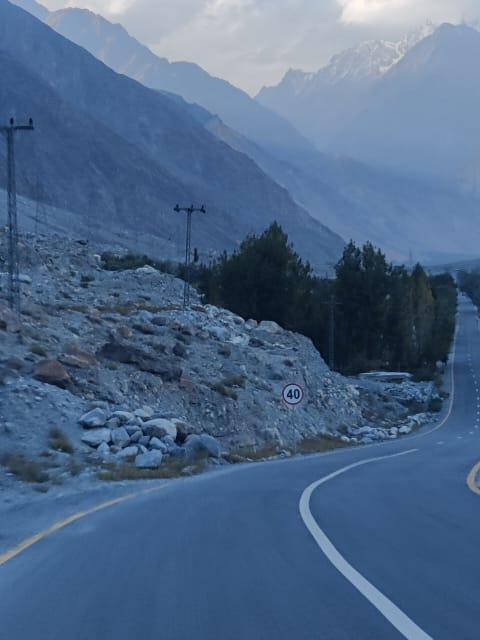right_turn: (62, 430, 480, 602)
